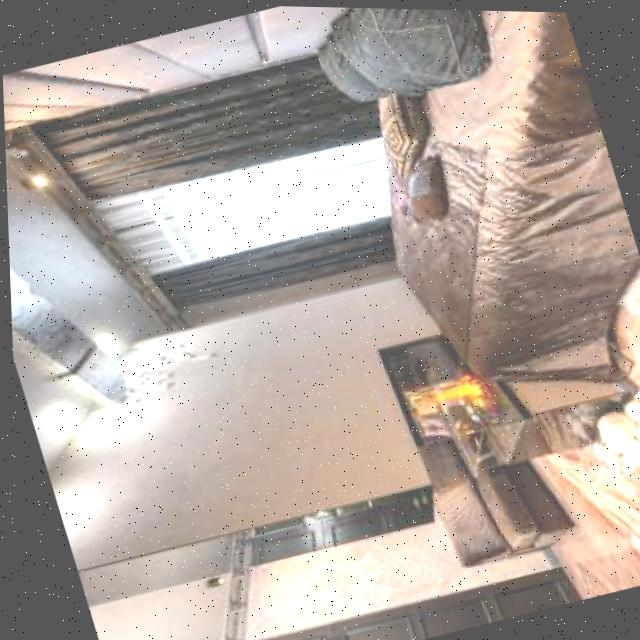Fire: (416, 364, 492, 422)
